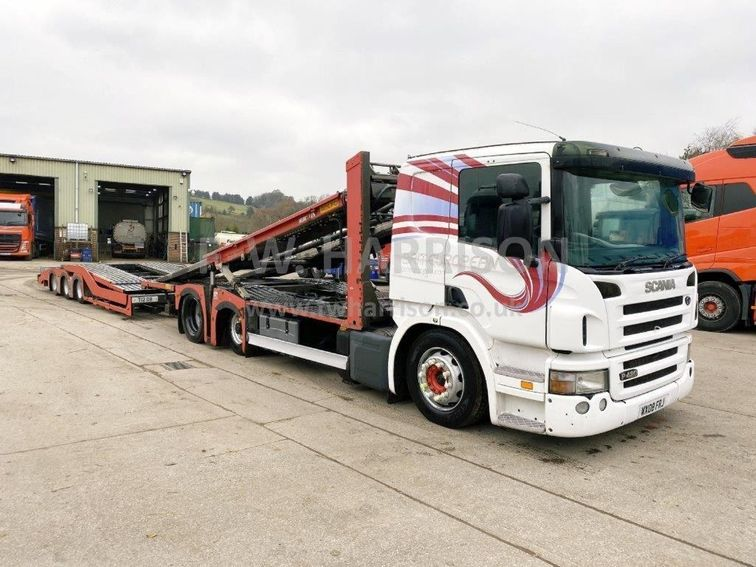Semi: (35, 140, 697, 438)
